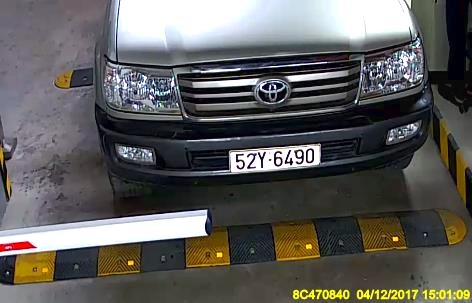plate: (229, 142, 316, 172)
